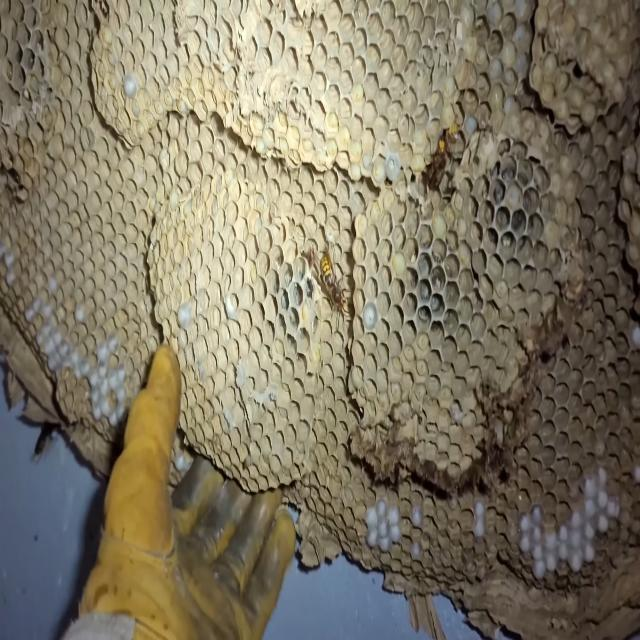Hornets: (310, 245, 350, 330)
